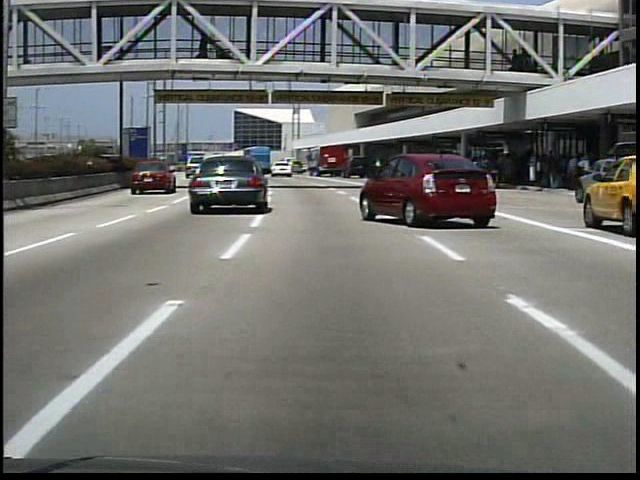person: (199, 32, 214, 60)
